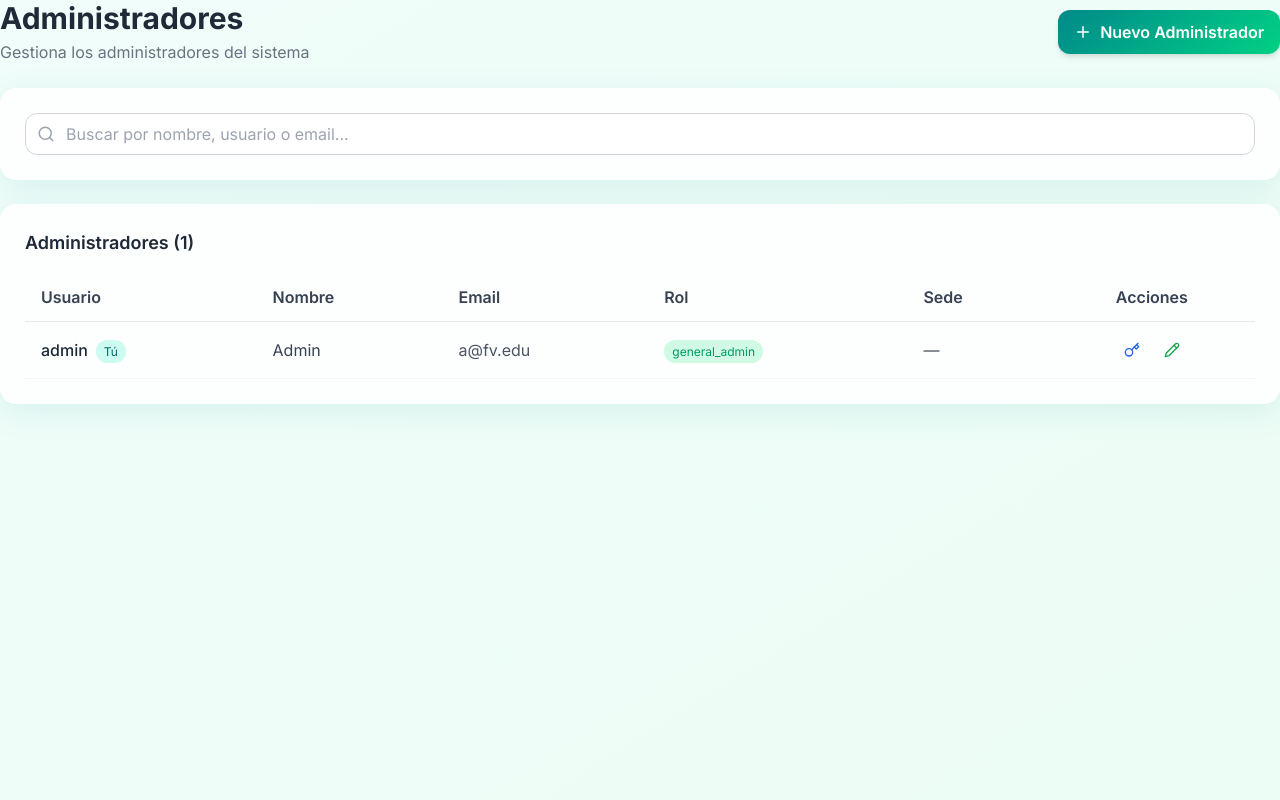
it: Admins role/sede picker › renders role select and sede select for general_admin
The image size is (1280, 800).
Click the button "Nuevo Administrador" at (1169, 32), box [1058,10,1279,54]
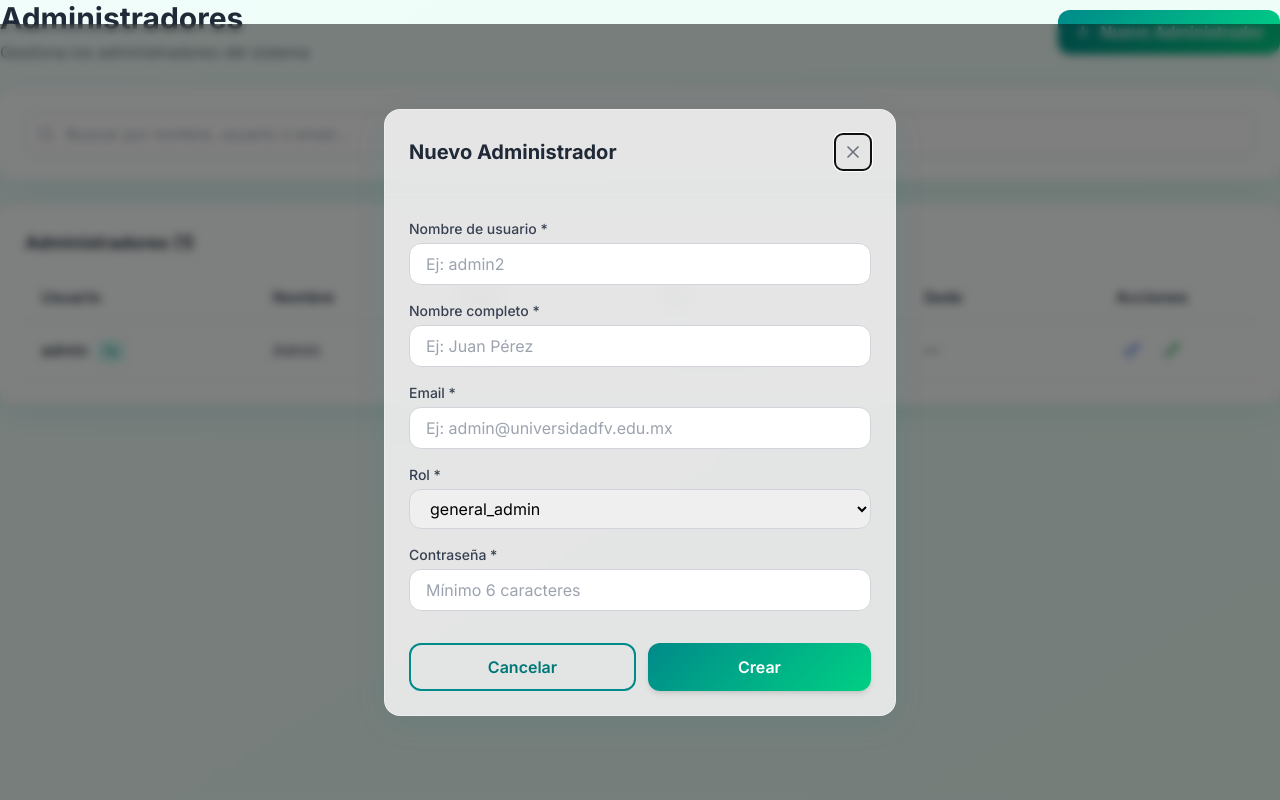
Check: the dropdown named "Rol" is shown, box [409,488,871,528]
